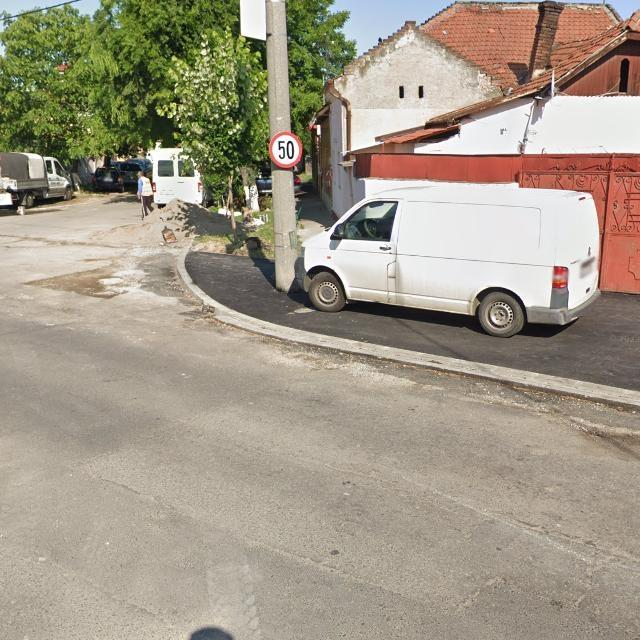forb_speed_over_50: (270, 132, 303, 168)
